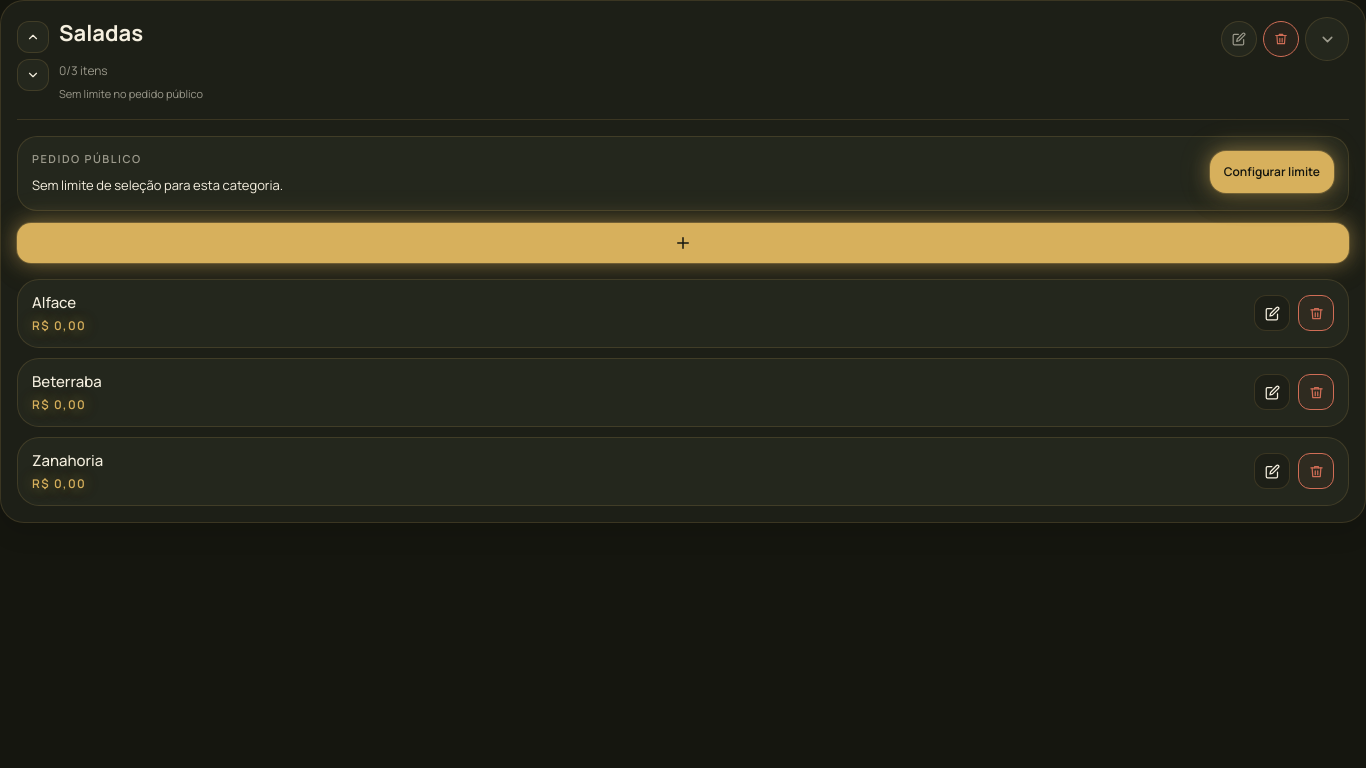
Scenario: CategoryCard › opens the add item sheet in manage mode
The image size is (1366, 768).
Click the button named "Adicionar item em Saladas". click: (683, 243)
box: [17,223,1349,263]
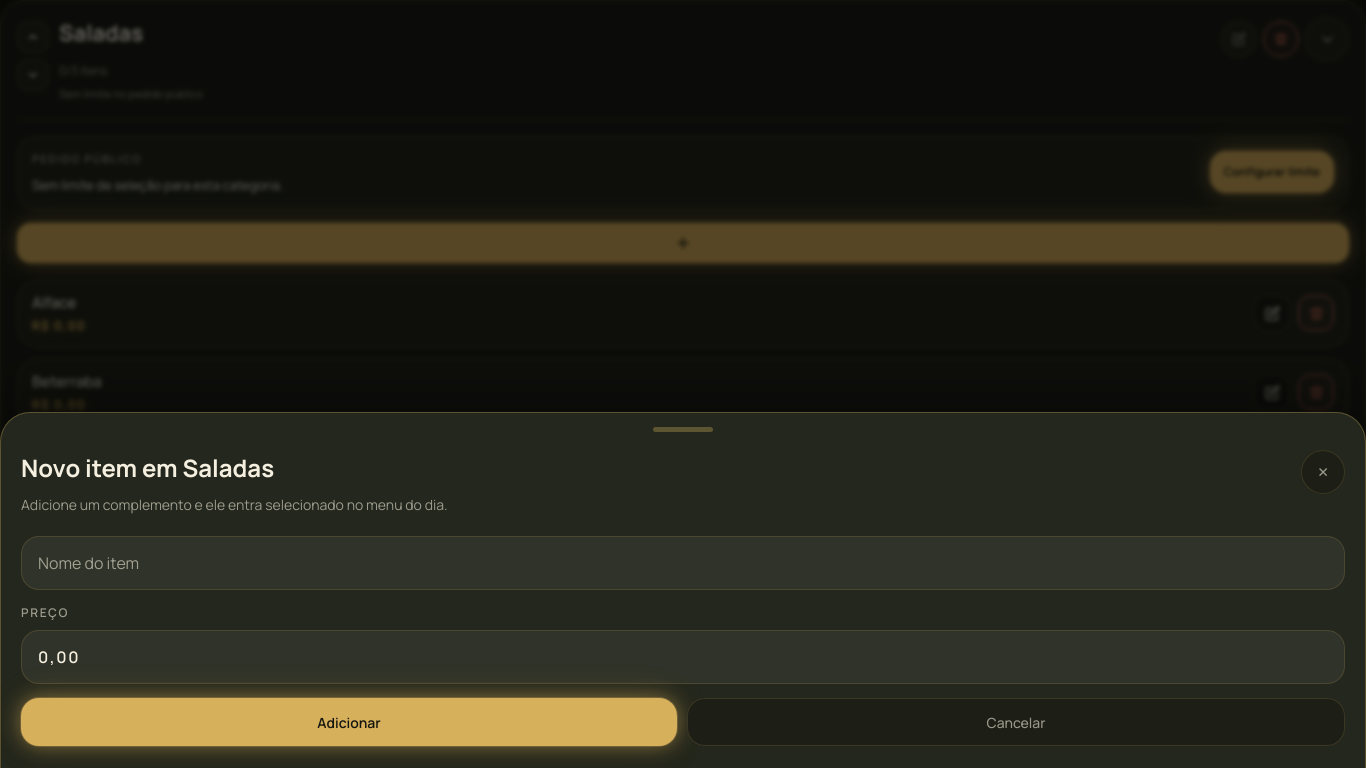
Now the dialog "Novo item em Saladas" is shown, box [0,412,1365,767]
